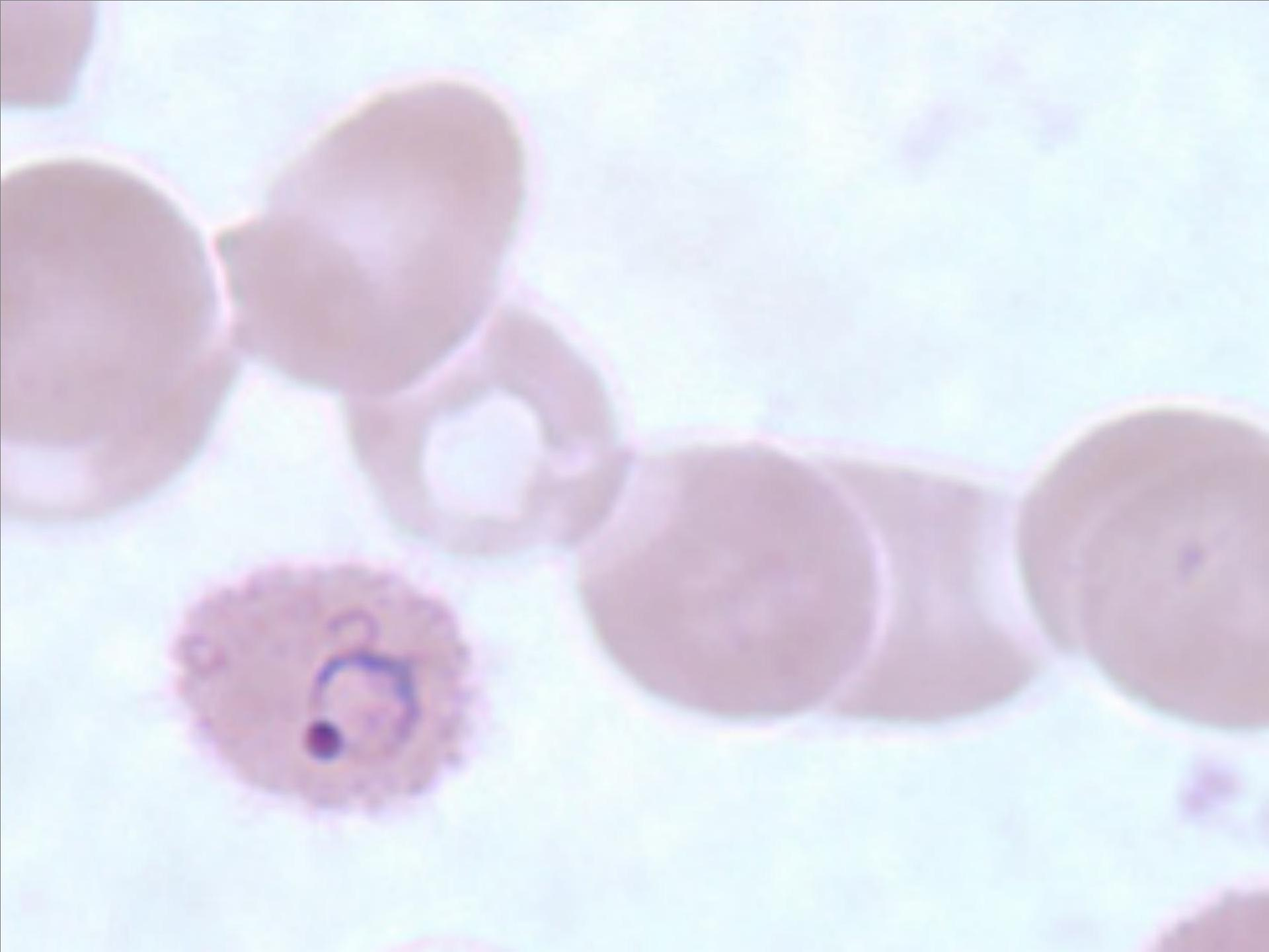Infected: (167, 556, 485, 814)
Uninfected: (212, 76, 511, 393), (0, 157, 241, 526), (582, 441, 880, 718), (1018, 415, 1269, 728), (339, 305, 637, 565), (776, 455, 1043, 721)
